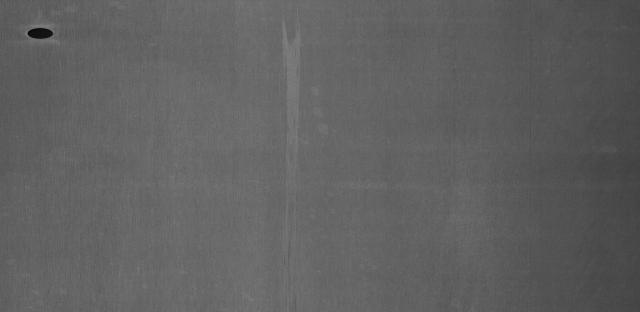punching_hole: (26, 24, 57, 40)
water_spot: (273, 17, 311, 269)
